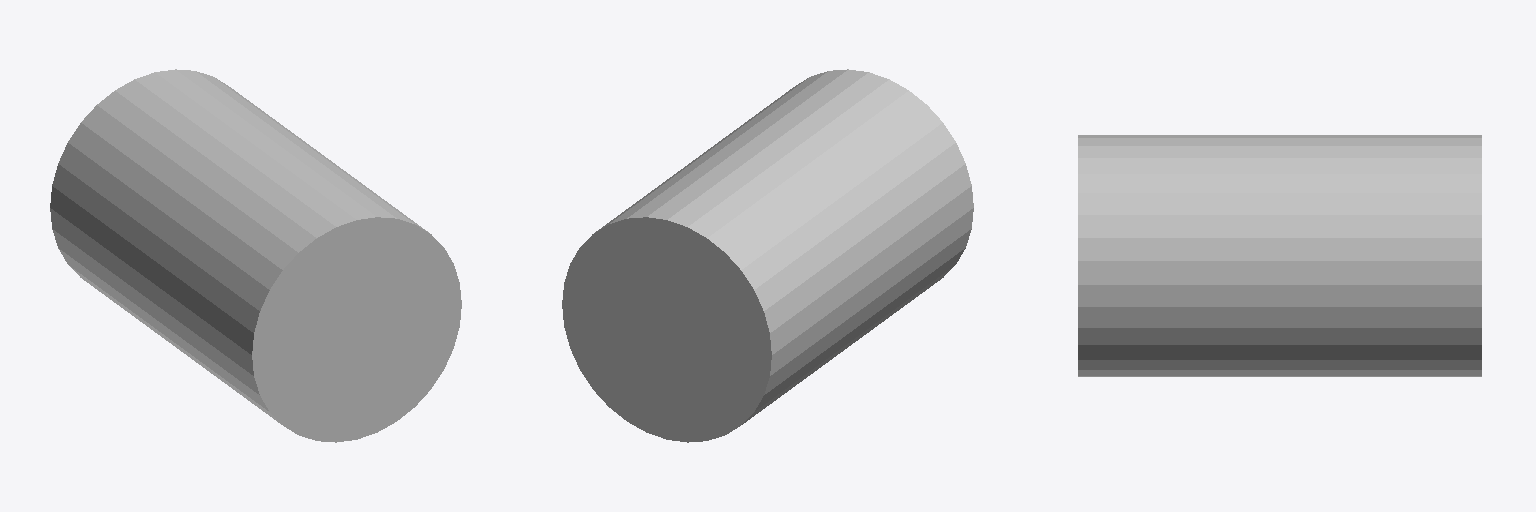
The model's file is piston.obj.
3 views of the same model, side by side, from view 1: azimuth 30°, elevation 25°; view 2: azimuth 150°, elevation 25°; view 3: azimuth 270°, elevation 25° (orthographic).
Visible parts, largest first — view 1: Piston; view 2: Piston; view 3: Piston.
Part boxes in pixels (left/top/right/bottom): Piston: left=50, top=69, right=461, bottom=442; Piston: left=562, top=69, right=973, bottom=442; Piston: left=1078, top=135, right=1481, bottom=376.
Bounding box in the file's own units: 0.6 × 0.6 × 1.